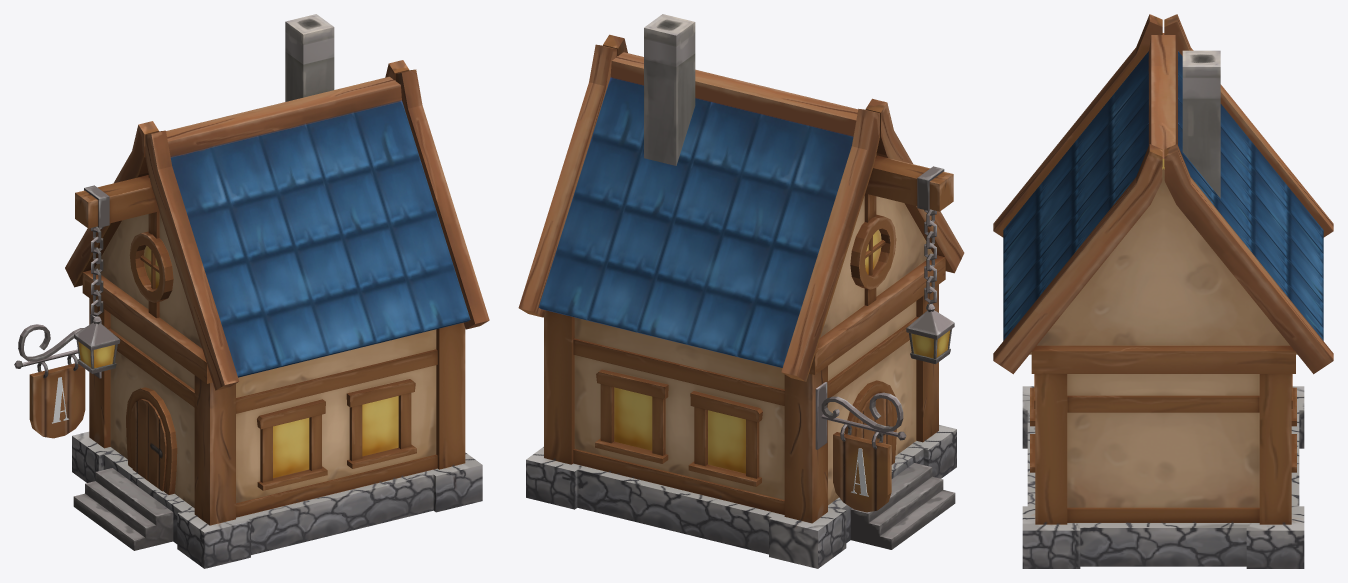
Rendered from hut 1.fbx.
3 renders of one model, left to right at view 1: azimuth 30°, elevation 25°; view 2: azimuth 150°, elevation 25°; view 3: azimuth 270°, elevation 25°, orthographic. The views are drawn at different scales.
Parts seen in each view (by area): view 1: 03_krisha, 00_steni, 32_fundament, 02_stolby_krisha, 01_stolbi, 15_balki_goriz_2, 14_balki_goriz, 31_lestnica, 04_krisha_bok, 08_truba, 17_rama_okno_goriz, 25_viveska (+8 smaller); view 2: 03_krisha, 00_steni, 32_fundament, 02_stolby_krisha, 01_stolbi, 15_balki_goriz_2, 08_truba, 14_balki_goriz, 31_lestnica, 04_krisha_bok, 17_rama_okno_goriz, 25_viveska (+10 smaller); view 3: 03_krisha, 00_steni, 02_stolby_krisha, 04_krisha_bok, 32_fundament, 14_balki_goriz, 01_stolbi, 08_truba, 17_rama_okno_goriz.
Part boxes in pixels (x1=…): 03_krisha: x1=166, y1=76, x2=470, y2=377; 00_steni: x1=110, y1=314, x2=436, y2=507; 32_fundament: x1=72, y1=431, x2=482, y2=568; 02_stolby_krisha: x1=65, y1=60, x2=489, y2=390; 01_stolbi: x1=89, y1=298, x2=465, y2=525; 15_balki_goriz_2: x1=236, y1=349, x2=437, y2=517; 14_balki_goriz: x1=82, y1=270, x2=212, y2=407; 31_lestnica: x1=73, y1=468, x2=173, y2=550; 04_krisha_bok: x1=94, y1=213, x2=202, y2=348; 08_truba: x1=285, y1=14, x2=334, y2=101; 17_rama_okno_goriz: x1=257, y1=379, x2=416, y2=490; 25_viveska: x1=29, y1=363, x2=85, y2=438; 03_krisha: x1=538, y1=52, x2=858, y2=367; 00_steni: x1=574, y1=301, x2=916, y2=505; 32_fundament: x1=526, y1=425, x2=956, y2=568; 02_stolby_krisha: x1=518, y1=34, x2=964, y2=381; 01_stolbi: x1=544, y1=284, x2=938, y2=523; 15_balki_goriz_2: x1=573, y1=338, x2=784, y2=514; 08_truba: x1=644, y1=14, x2=695, y2=165; 14_balki_goriz: x1=809, y1=255, x2=945, y2=397; 31_lestnica: x1=850, y1=463, x2=955, y2=549; 04_krisha_bok: x1=820, y1=196, x2=933, y2=337; 17_rama_okno_goriz: x1=595, y1=369, x2=762, y2=486; 25_viveska: x1=833, y1=432, x2=891, y2=512; 03_krisha: x1=1003, y1=33, x2=1323, y2=340; 00_steni: x1=1067, y1=374, x2=1259, y2=507; 02_stolby_krisha: x1=993, y1=14, x2=1333, y2=374; 04_krisha_bok: x1=1029, y1=159, x2=1297, y2=354; 32_fundament: x1=1022, y1=386, x2=1304, y2=568; 14_balki_goriz: x1=1031, y1=345, x2=1295, y2=522; 01_stolbi: x1=1035, y1=374, x2=1291, y2=524; 08_truba: x1=1182, y1=50, x2=1220, y2=198; 17_rama_okno_goriz: x1=1030, y1=374, x2=1296, y2=472.
Bounding box in the file's own units: 8658 × 10361 × 6882.
